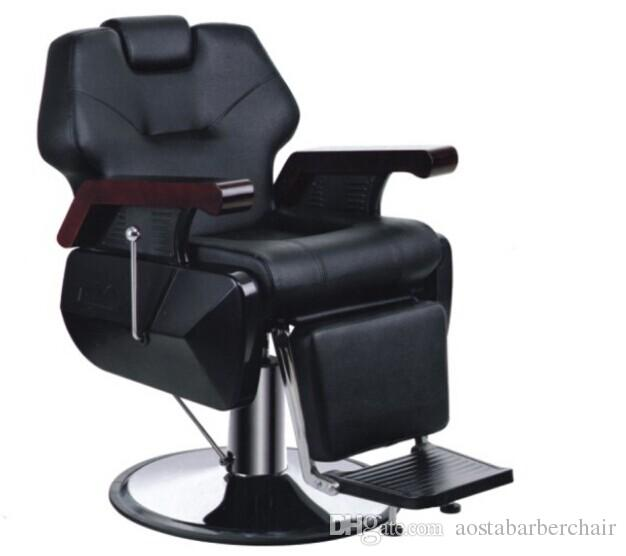chairs: (36, 15, 516, 539)
